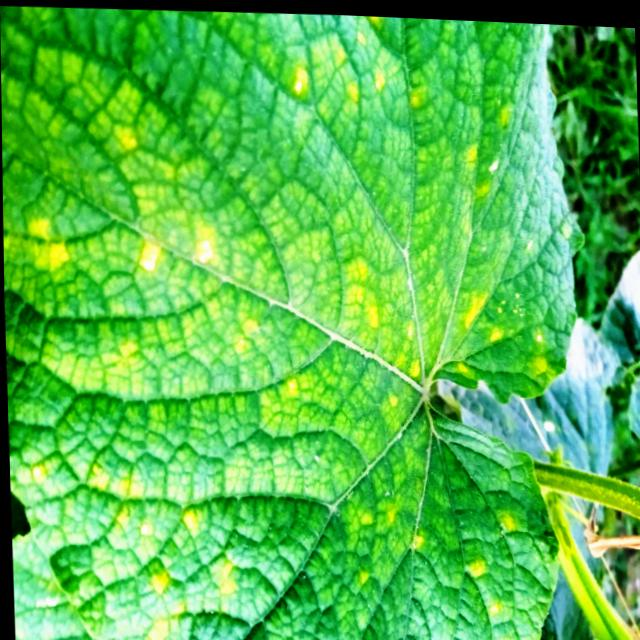Downy-Mildew: (0, 6, 582, 640)
